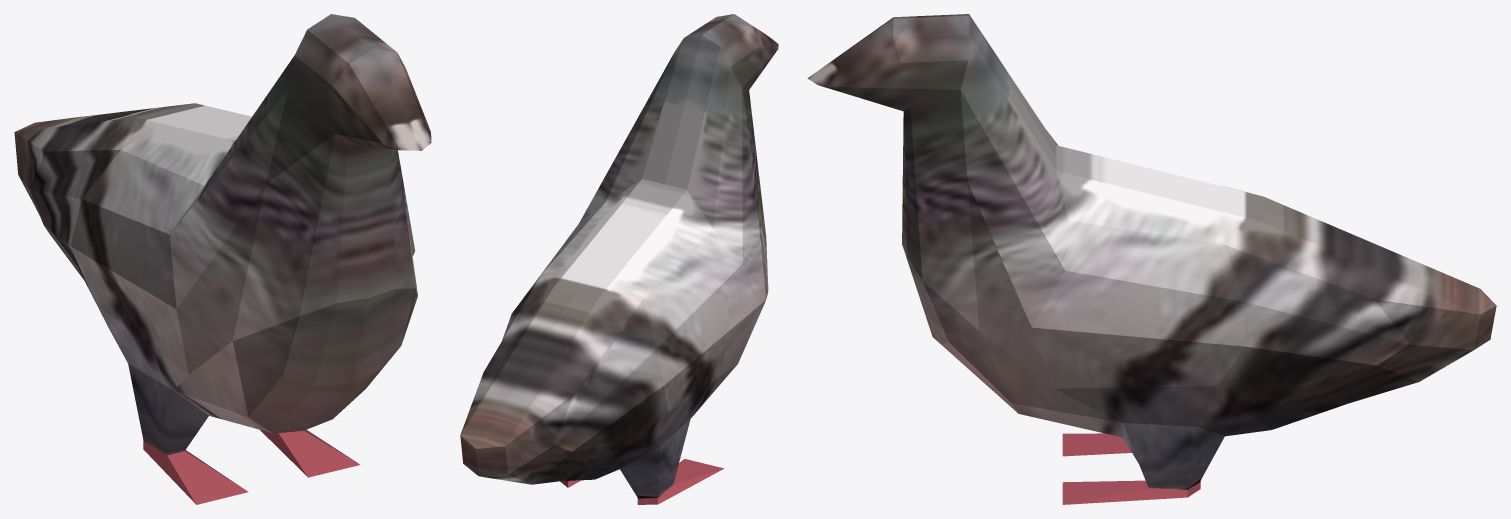
File: pigeon.fbx
3 renders of one model, left to right at view 1: azimuth 30°, elevation 25°; view 2: azimuth 150°, elevation 25°; view 3: azimuth 270°, elevation 25°, orthographic. The views are drawn at different scales.
Parts seen in each view (by area): view 1: PIGEON; view 2: PIGEON; view 3: PIGEON.
Boxes of the visible parts, bbox=[...] form: PIGEON: bbox=[14, 14, 431, 504]; PIGEON: bbox=[460, 14, 778, 504]; PIGEON: bbox=[807, 14, 1496, 504].
Bounding box in the file's own units: 1.04 × 2.11 × 2.91.
